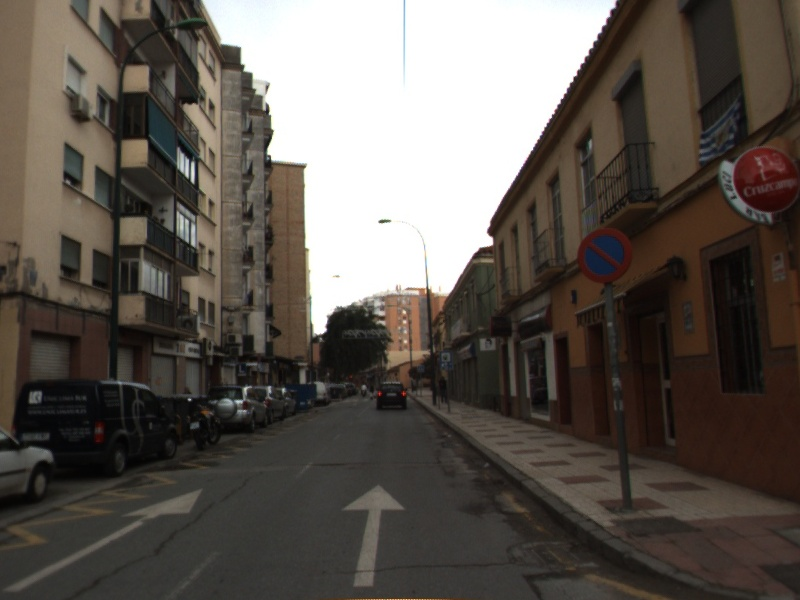STRAIGHT: (1, 486, 206, 594), (338, 482, 408, 589)
